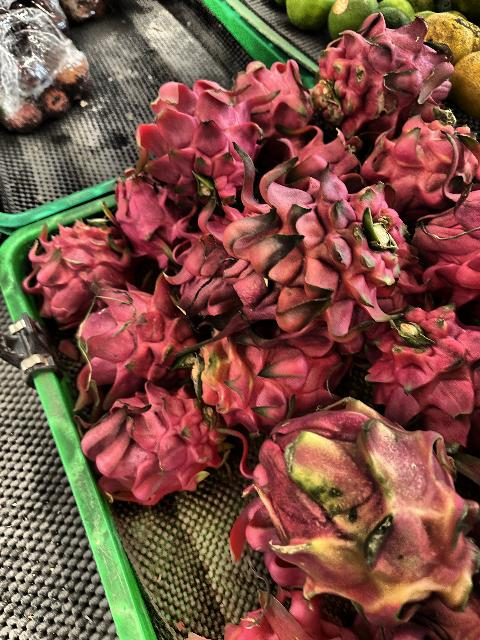buah-naga-belum-matang: (240, 397, 478, 613)
buah-naga-matang: (207, 158, 395, 328), (310, 14, 468, 122), (358, 295, 478, 431), (133, 76, 255, 196), (184, 324, 332, 412), (84, 393, 213, 493), (72, 298, 200, 390), (368, 116, 476, 204), (29, 215, 133, 302), (100, 168, 192, 266), (422, 188, 480, 302), (234, 60, 314, 142), (259, 124, 354, 190), (166, 231, 240, 303)
